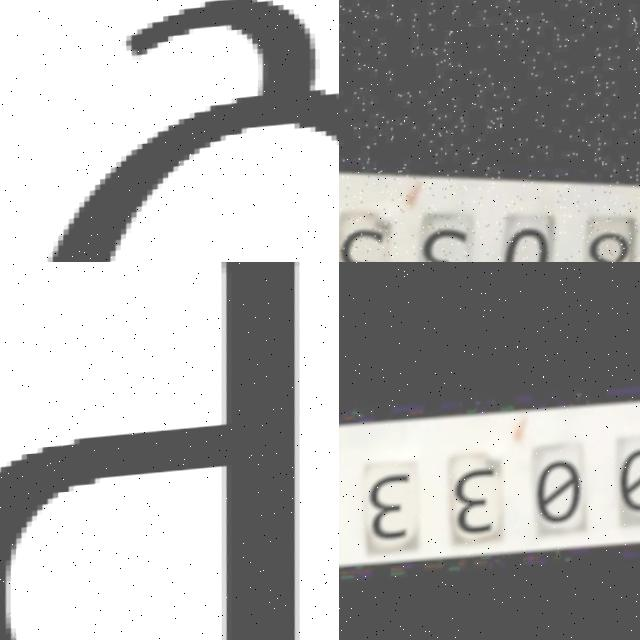0: (534, 452, 597, 541), (494, 215, 571, 262), (616, 438, 640, 533)
3: (452, 458, 516, 551), (367, 465, 430, 556), (412, 218, 488, 262)
5: (339, 215, 406, 262)
8: (581, 223, 640, 262)
P: (0, 262, 306, 640)
Q: (0, 0, 339, 262)
